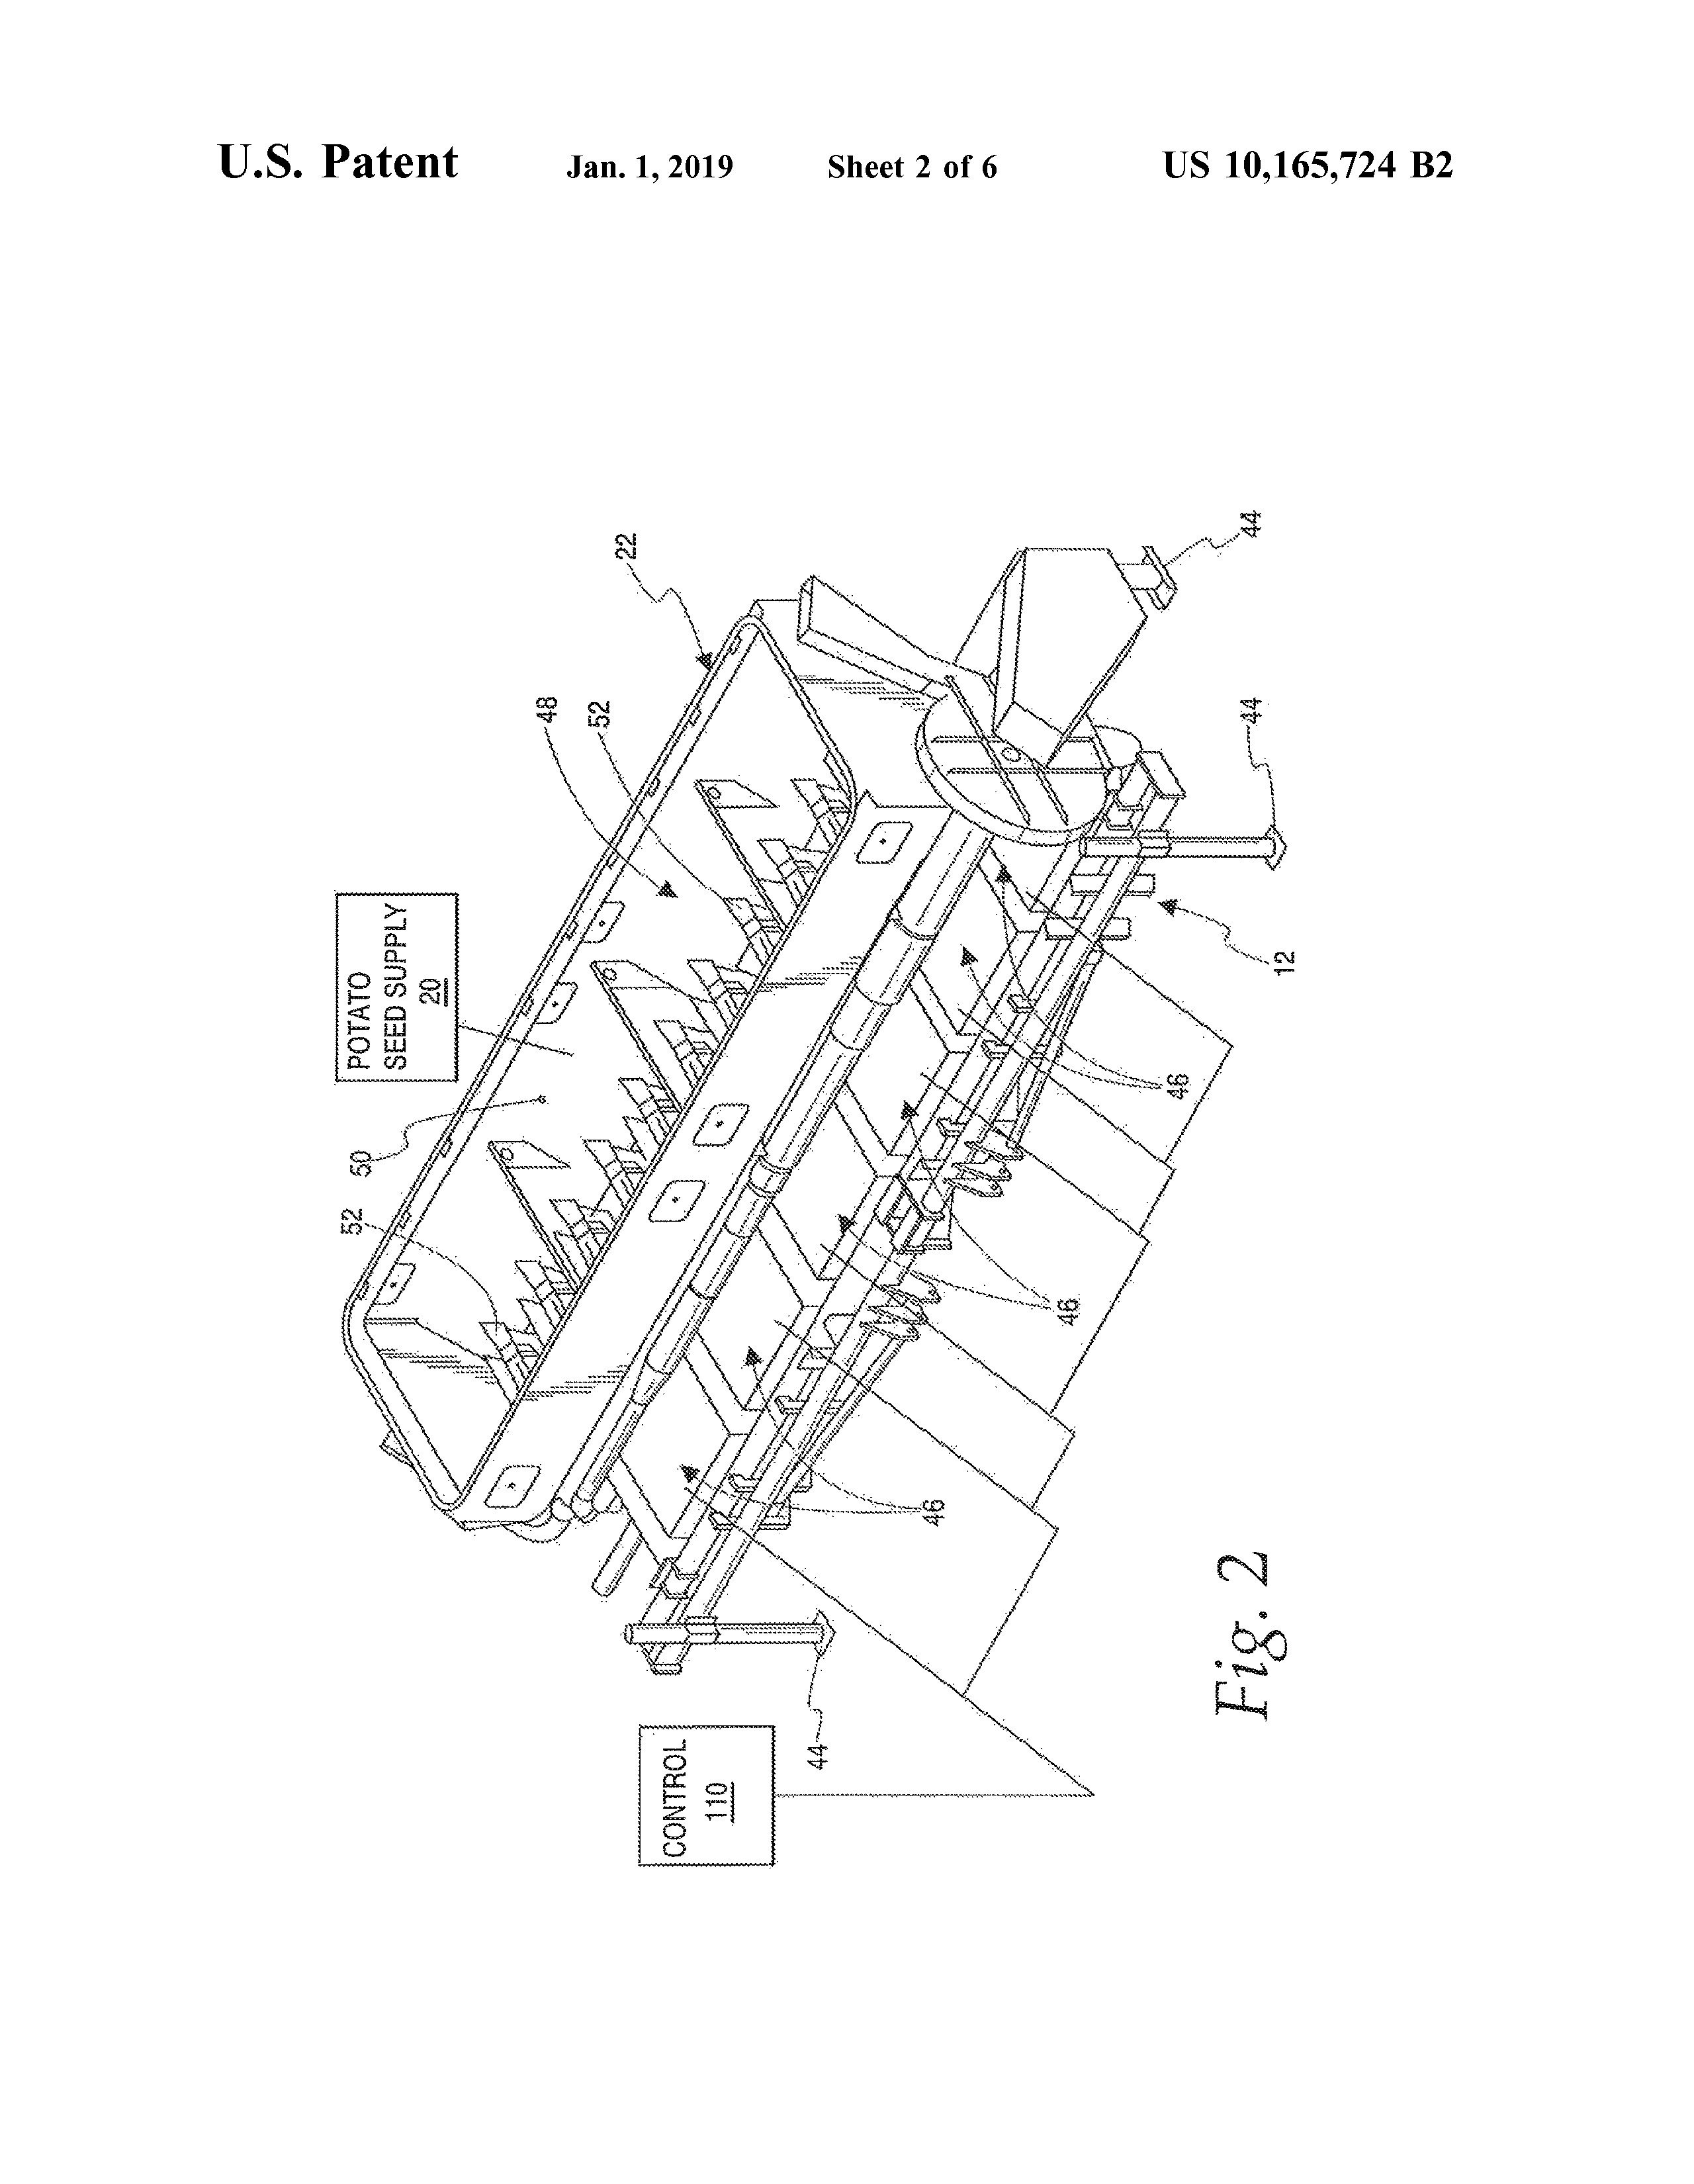patent image: (307, 495, 1363, 1885)
